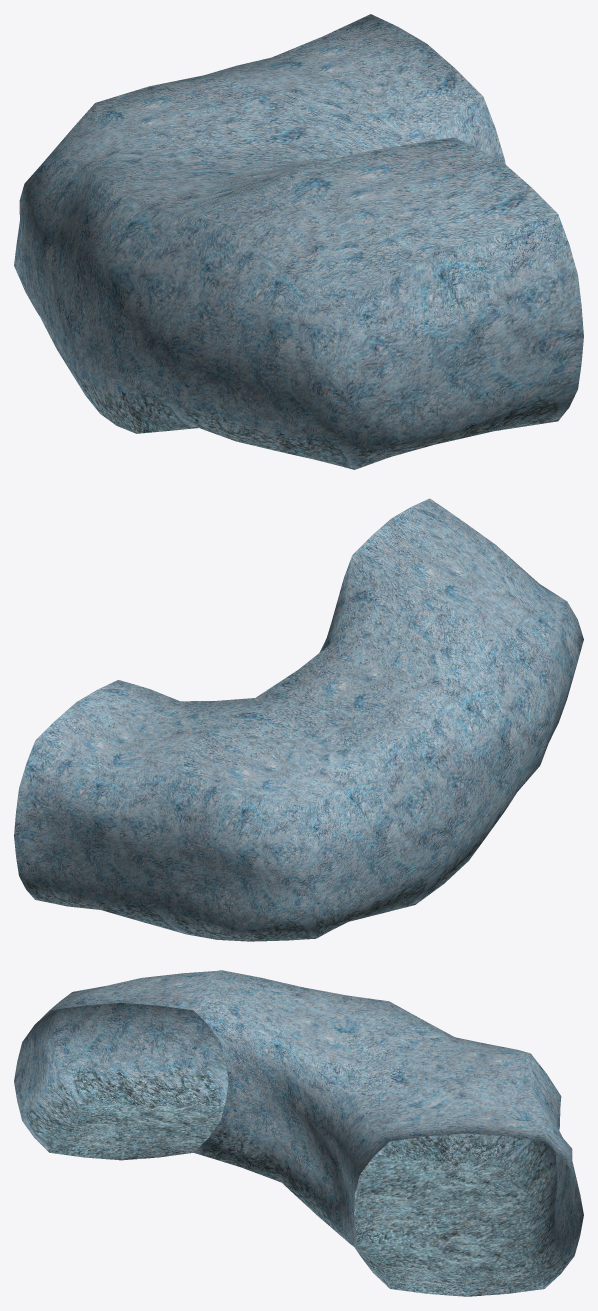
Rendered from thm_all_cave_s03_ice_r18_r18.fbx.
The picture shows the model from 3 angles, top to bottom: view 1: azimuth 30°, elevation 25°; view 2: azimuth 150°, elevation 25°; view 3: azimuth 270°, elevation 25°; orthographic projection. The views are drawn at different scales.
Visible parts, largest first — view 1: mesh_node; view 2: mesh_node; view 3: mesh_node.
Part boxes in pixels (x1=…): mesh_node: x1=14, y1=14, x2=583, y2=469; mesh_node: x1=14, y1=498, x2=583, y2=941; mesh_node: x1=14, y1=970, x2=583, y2=1296.
Size of the model in its own units: 16.71 by 12.57 by 26.76.
